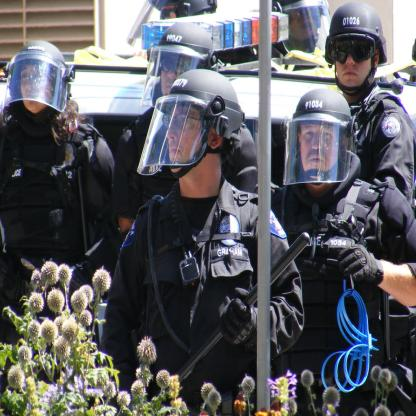Helmet: (132, 72, 242, 180), (280, 92, 354, 199), (324, 0, 390, 105), (140, 24, 223, 104), (0, 40, 77, 117), (124, 0, 219, 50), (262, 0, 325, 63)
